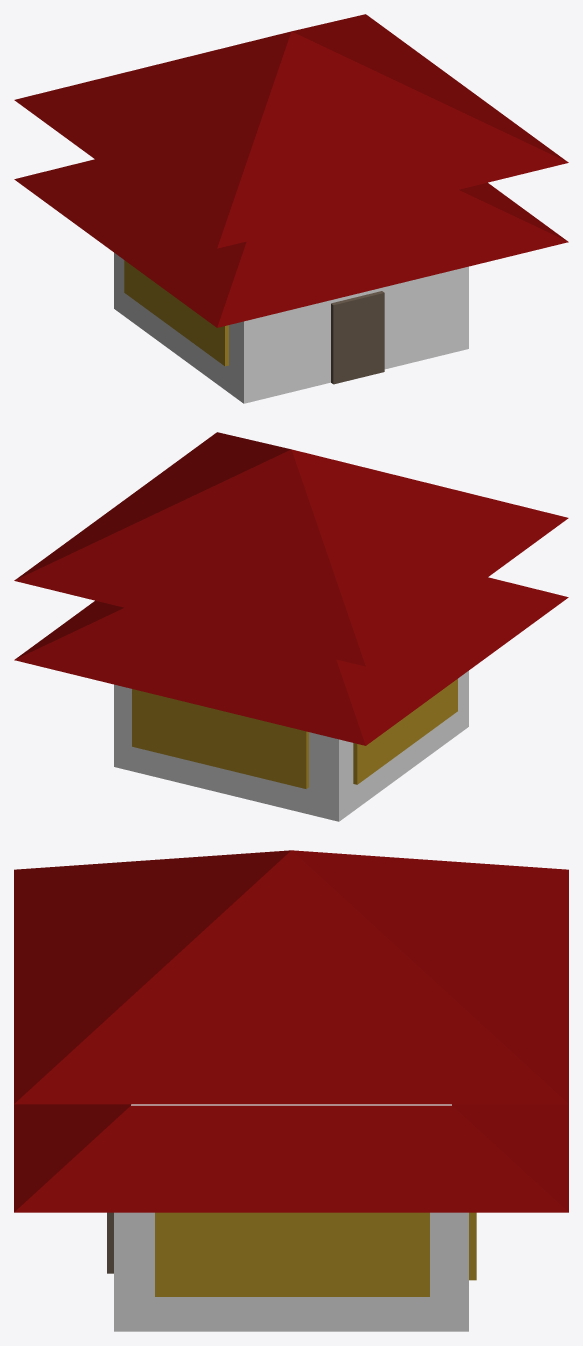
The model's file is House I.fbx.
3 renders of one model, top to bottom at view 1: azimuth 30°, elevation 25°; view 2: azimuth 150°, elevation 25°; view 3: azimuth 270°, elevation 25°, orthographic. The views are drawn at different scales.
Parts seen in each view (by area): view 1: pCone2, pCone1, pCube1, pCube3, pCube5; view 2: pCone2, pCone1, pCube1, pCube6, pCube5; view 3: pCone2, pCone1, pCube4, pCube1, pCube2.
Part boxes in pixels (x1,y1,x2,y2): pCone2: (14, 14, 568, 248); pCone1: (14, 159, 568, 327); pCube1: (114, 253, 468, 403); pCube3: (331, 291, 384, 384); pCube5: (124, 260, 228, 366); pCone2: (14, 432, 568, 666); pCone1: (14, 577, 568, 745); pCube1: (114, 671, 468, 821); pCube6: (132, 689, 308, 788); pCube5: (353, 679, 457, 784); pCone2: (14, 850, 568, 1104); pCone1: (14, 1104, 568, 1212); pCube4: (155, 1212, 429, 1296); pCube1: (114, 1212, 468, 1331); pCube2: (131, 1104, 451, 1105).
Bounding box in the file's own units: 12.53 × 10.12 × 12.53.
